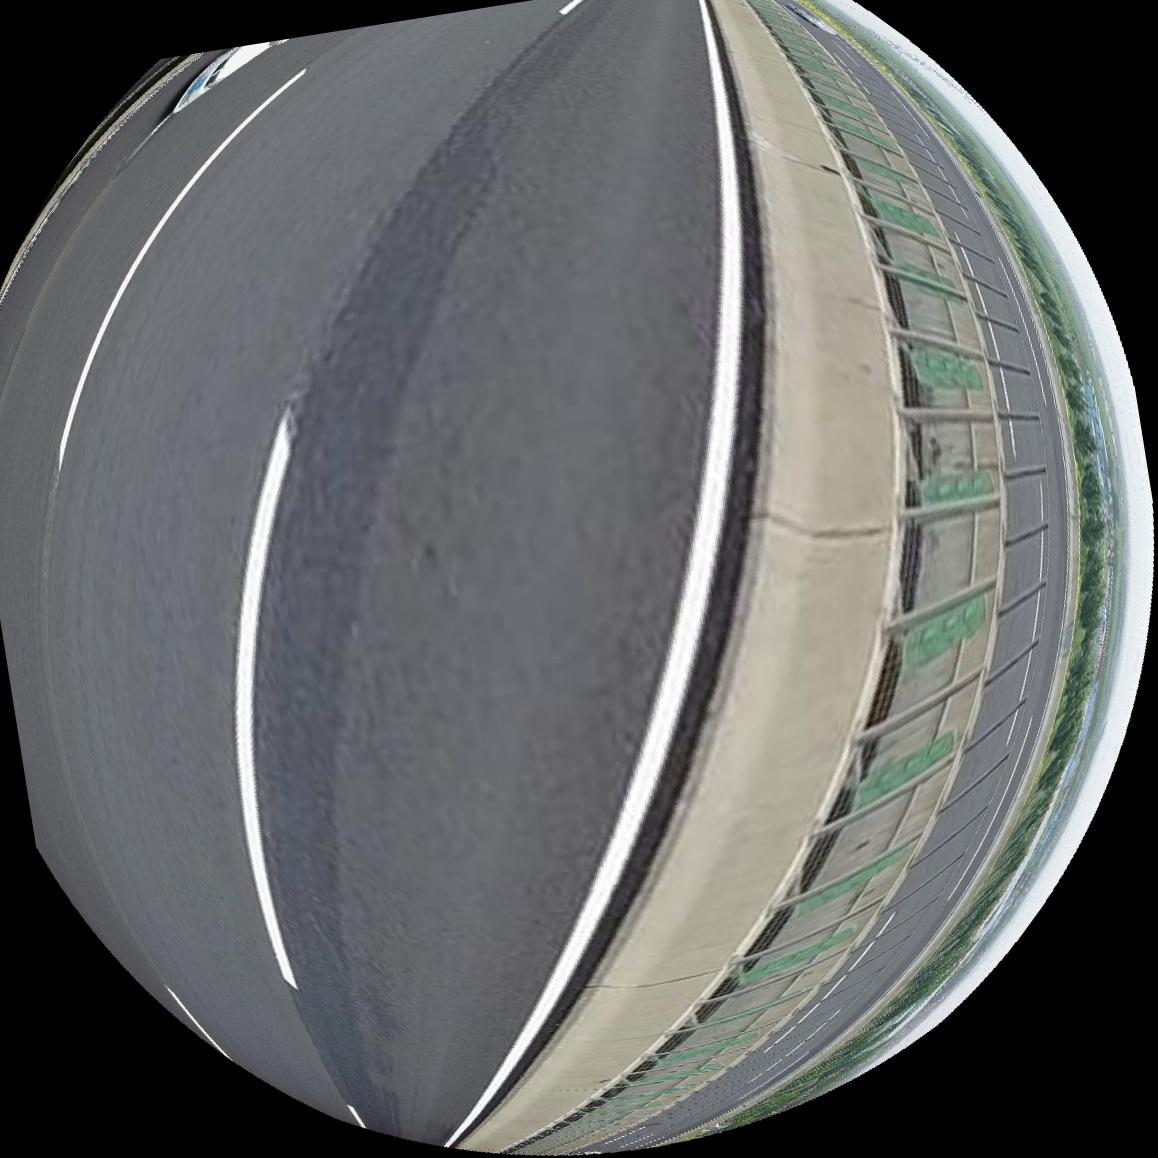cars: (165, 39, 285, 115)
